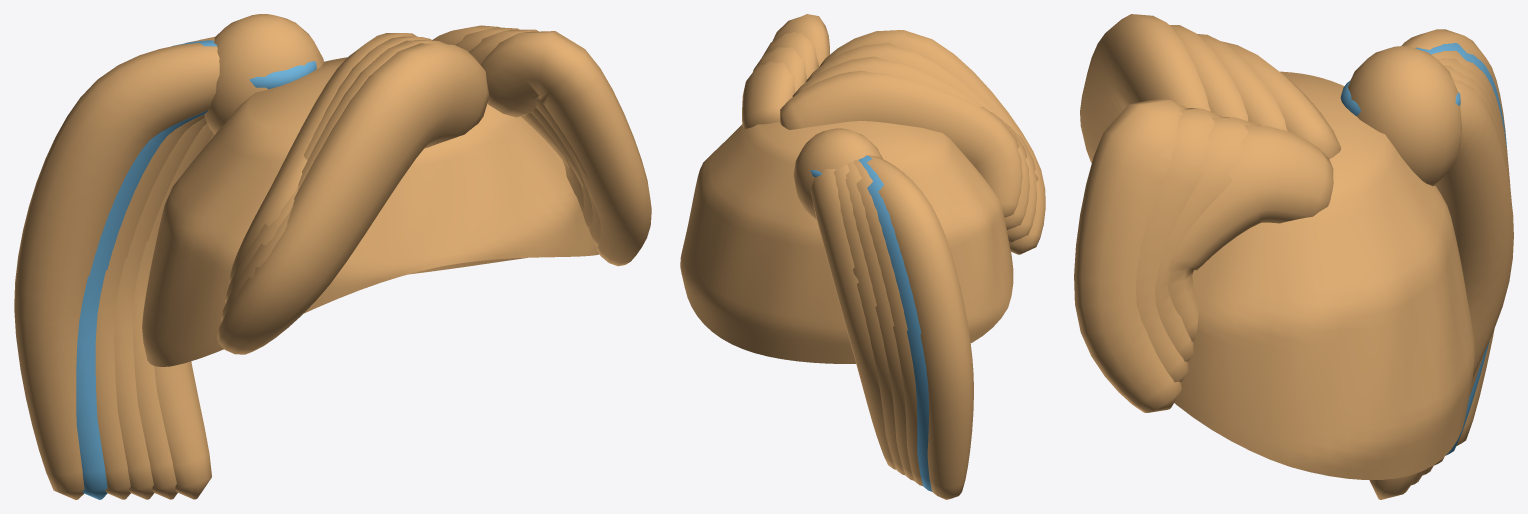
Rendered from studio_ponytail_long.glb.
3 views of the same model, side by side, from view 1: azimuth 30°, elevation 25°; view 2: azimuth 150°, elevation 25°; view 3: azimuth 270°, elevation 25° (orthographic). The views are drawn at different scales.
Parts seen in each view (by area): view 1: ponytail; view 2: ponytail; view 3: ponytail.
Part boxes in pixels (x1,y1,x2,y2): ponytail: [14, 14, 651, 499]; ponytail: [680, 14, 1045, 499]; ponytail: [1074, 14, 1513, 499].
Bounding box in the file's own units: 0.5571 × 0.5614 × 0.4179.
